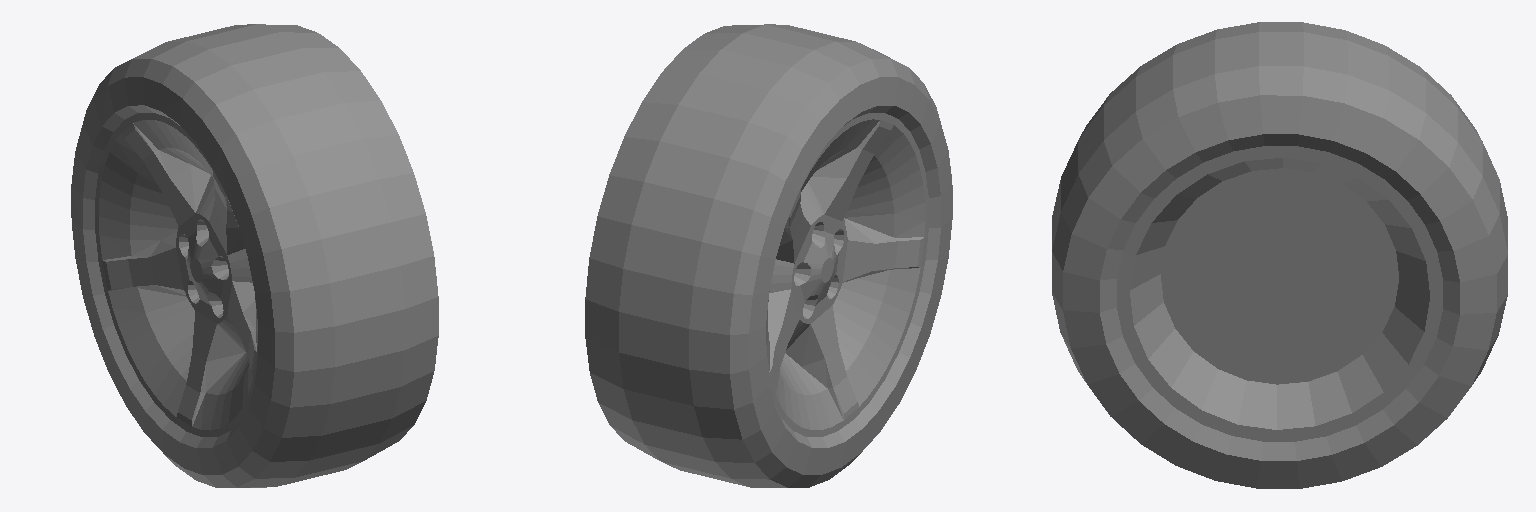
Rendered from Wheel222.obj.
3 views of the same model, side by side, from view 1: azimuth 30°, elevation 25°; view 2: azimuth 150°, elevation 25°; view 3: azimuth 270°, elevation 25° (orthographic).
Parts seen in each view (by area): view 1: BTechFix; view 2: BTechFix; view 3: BTechFix.
Boxes of the visible parts, <box> form: BTechFix: <box>71,24,438,487</box>; BTechFix: <box>585,24,952,487</box>; BTechFix: <box>1052,22,1507,488</box>.
Size of the model in its own units: 35.25 by 81.44 by 81.44.